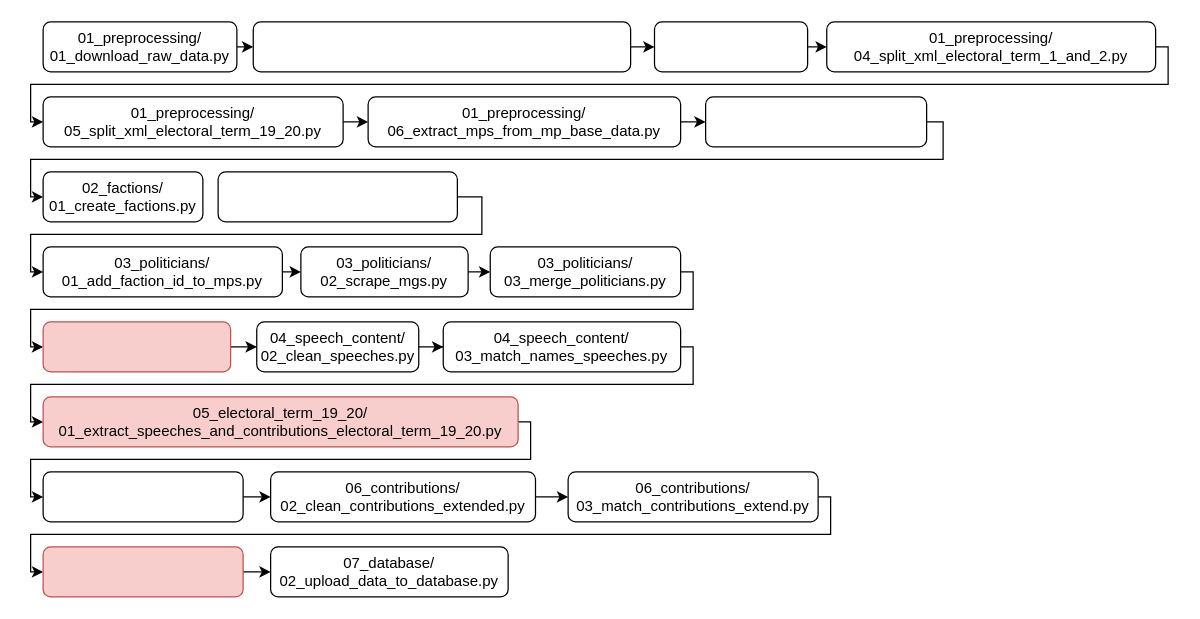
This 1200x619 diagram has some shape labels left out. Here are the shapes that lost their labels. From the top down, the box of each, then its label:
(252, 21, 631, 72): 01_preprocessing/ 02_download_raw_data_electoral_term_19_20.py
(653, 21, 808, 72): 01_preprocessing/ 03_split_xml.py
(704, 96, 927, 147): 01_preprocessing/ 07_create_electoral_terms.py
(217, 171, 457, 222): 02_factions/ 02_add_abbreviations_and_ids.py
(42, 321, 231, 372): 04_speech_content/ 01_extract_speeches.py
(42, 471, 243, 522): 06_contributions/ 01_extract_contributions.py
(42, 546, 243, 597): 07_database/ 01_concat_everything.py
